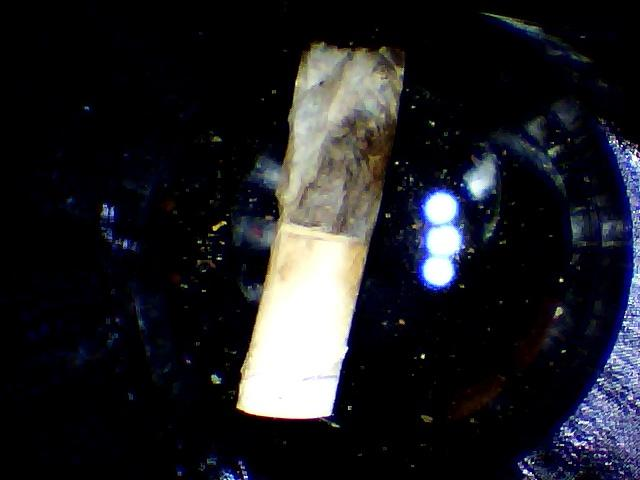megot: (224, 35, 422, 425)
